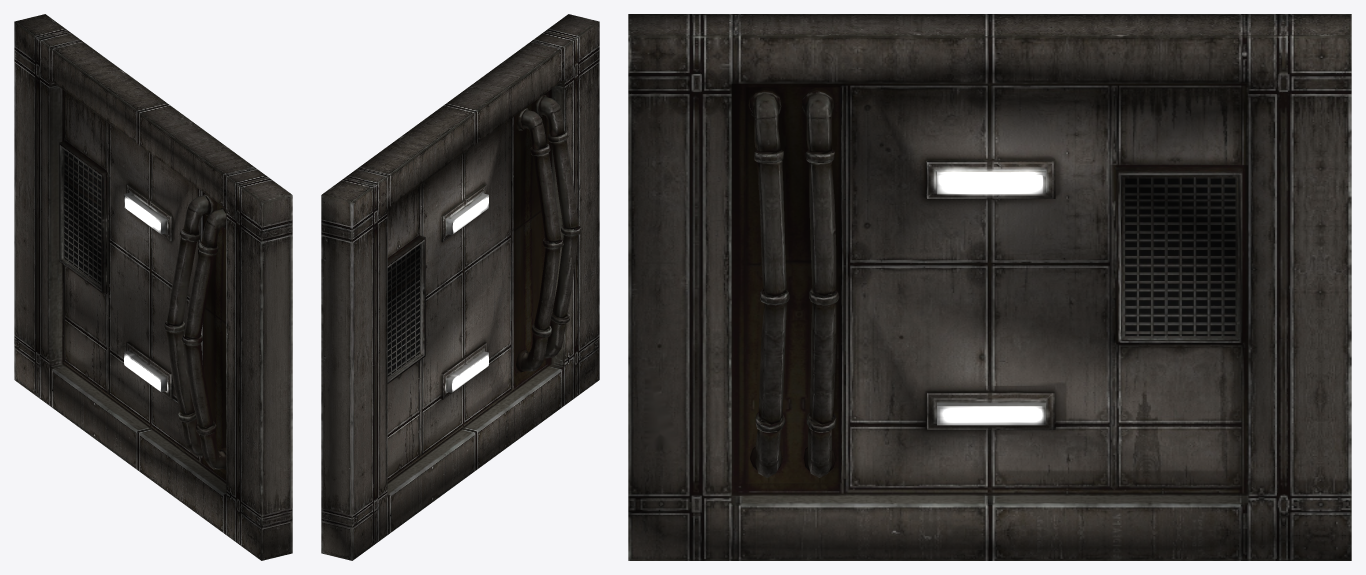
Rendered from Concrete_large_Cieling_1B.glb.
3 renders of one model, left to right at view 1: azimuth 30°, elevation 25°; view 2: azimuth 150°, elevation 25°; view 3: azimuth 270°, elevation 25°, orthographic. The views are drawn at different scales.
Parts seen in each view (by area): view 1: tripo_node_a415488a-52f3-4076-ae20-b67f2c356f2e; view 2: tripo_node_a415488a-52f3-4076-ae20-b67f2c356f2e; view 3: tripo_node_a415488a-52f3-4076-ae20-b67f2c356f2e.
Part boxes in pixels (x1,y1,x2,y2): tripo_node_a415488a-52f3-4076-ae20-b67f2c356f2e: (14, 14, 292, 560); tripo_node_a415488a-52f3-4076-ae20-b67f2c356f2e: (321, 14, 599, 560); tripo_node_a415488a-52f3-4076-ae20-b67f2c356f2e: (628, 14, 1351, 560).
Size of the model in its own units: 0.209 by 0.7988 by 0.998.
1 material, 1 textured.
